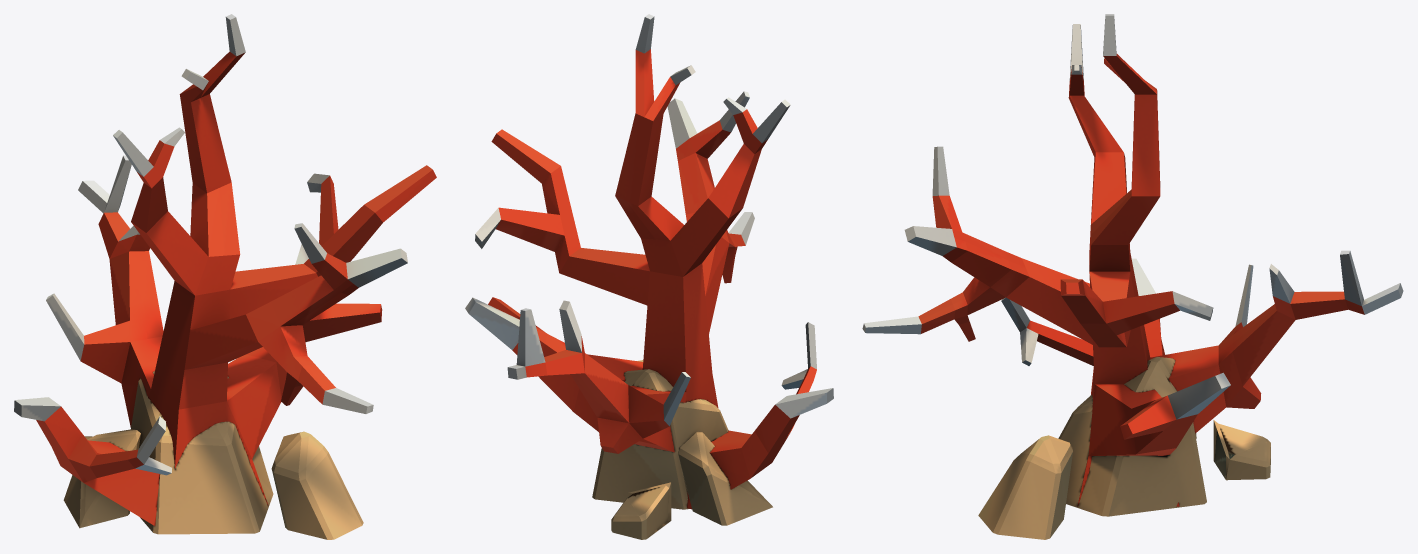
Rendered from PUSHILIN_coral.gltf.
3 renders of one model, left to right at view 1: azimuth 30°, elevation 25°; view 2: azimuth 150°, elevation 25°; view 3: azimuth 270°, elevation 25°, orthographic. The views are drawn at different scales.
Visible parts, largest first — view 1: node-0; view 2: node-0; view 3: node-0.
Part boxes in pixels (x1,y1,x2,y2): node-0: [14, 14, 436, 539]; node-0: [465, 14, 833, 539]; node-0: [862, 14, 1403, 539].
Bounding box in the file's own units: 1.33 × 1.59 × 1.61.
1 material, 1 textured.
